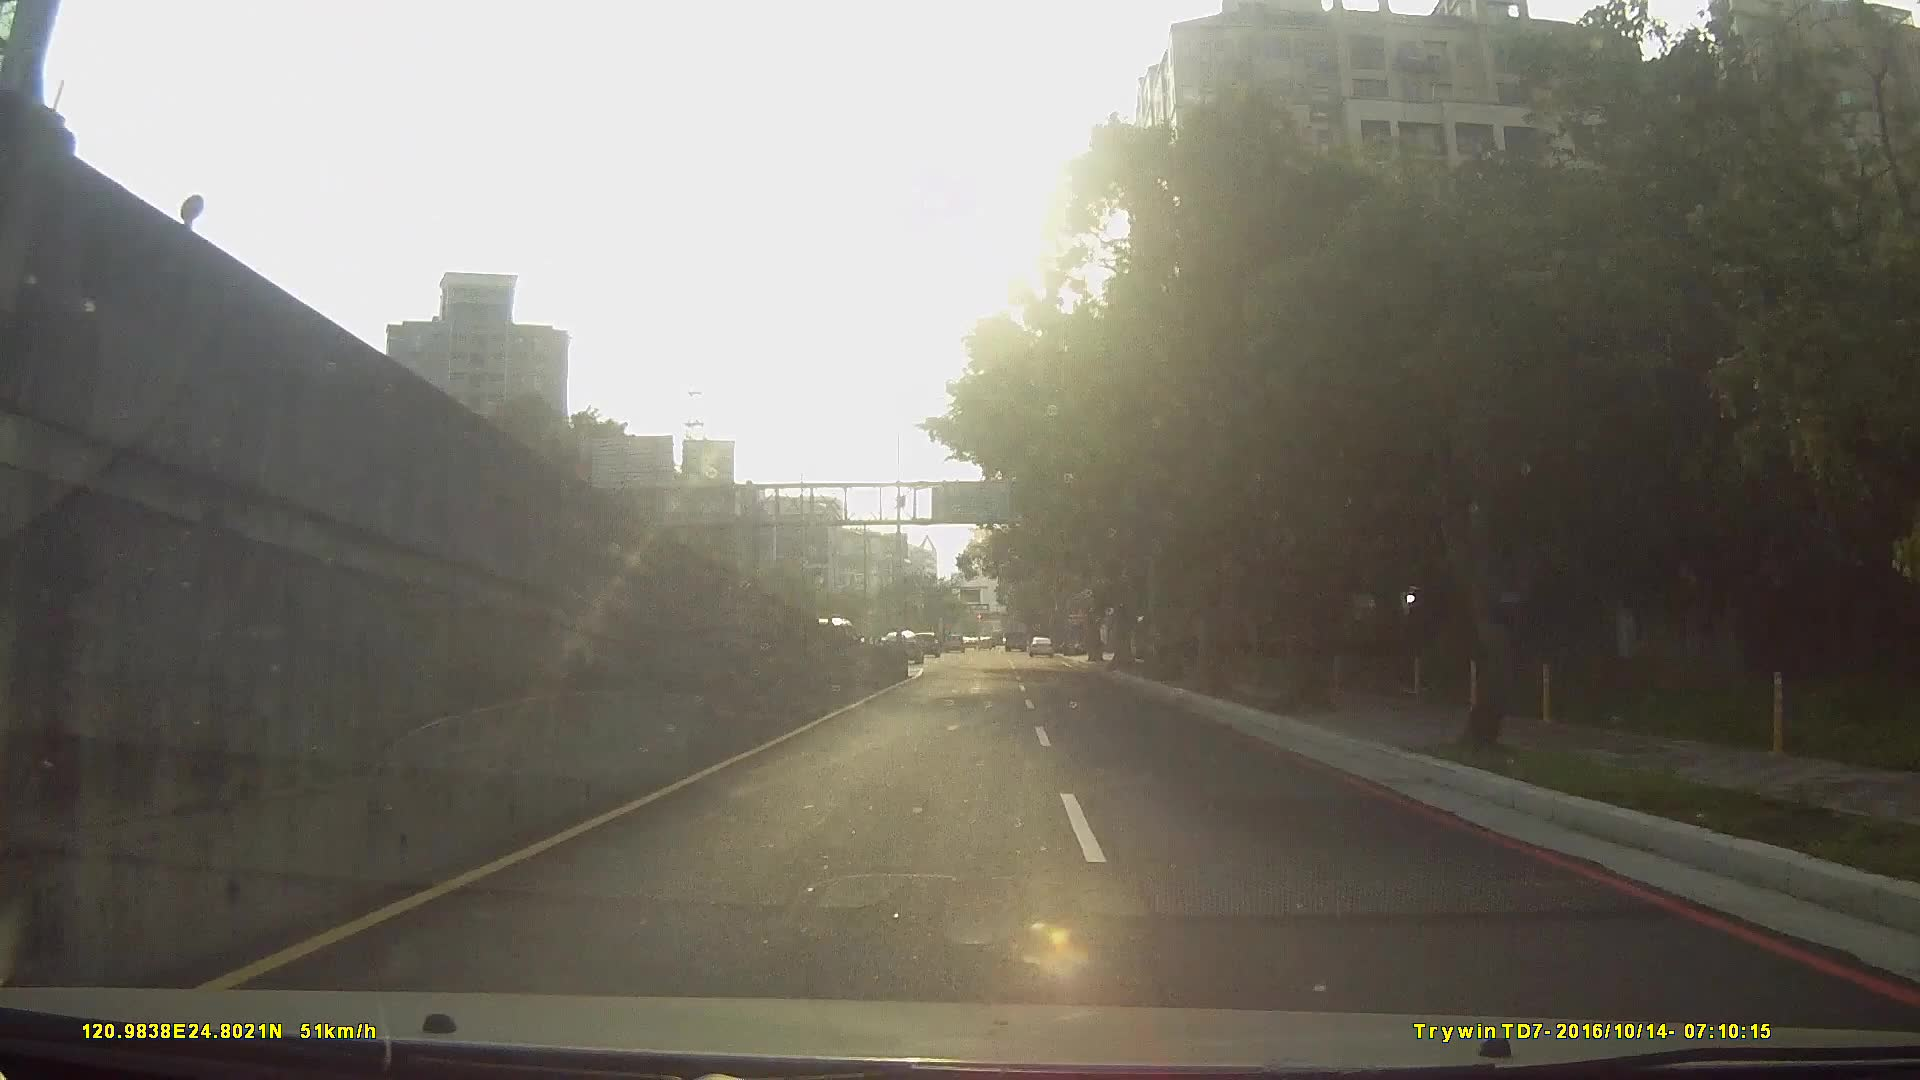vehicle: (881, 630, 924, 666)
